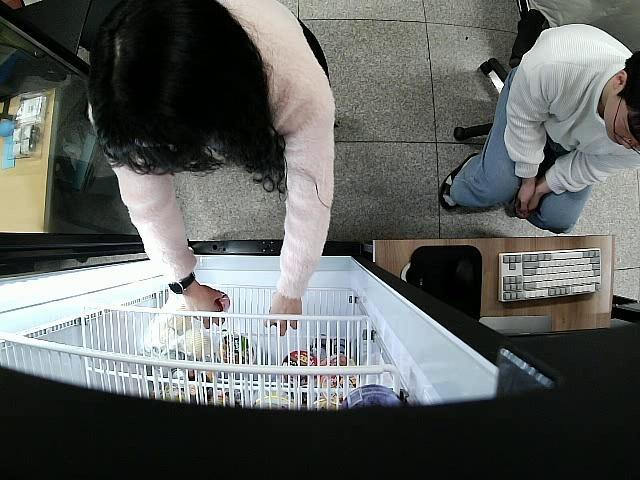11_cocaColaZero: (212, 292, 230, 312)
